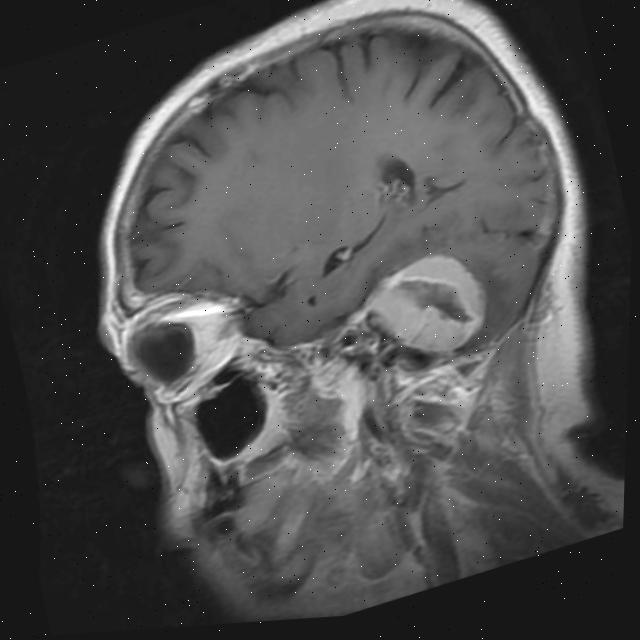Meningioma: (353, 237, 498, 375)
